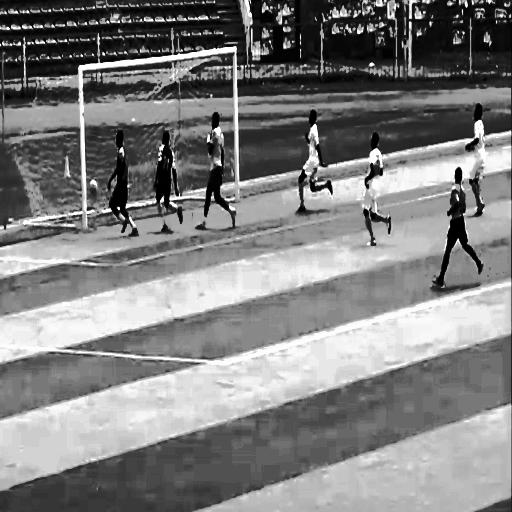ball: (85, 168, 103, 203)
keeper1: (194, 106, 242, 239)
referee: (428, 167, 485, 293)
team1: (293, 97, 339, 222), (359, 128, 402, 258), (464, 99, 490, 216)
team2: (149, 124, 188, 238), (104, 127, 142, 239)
